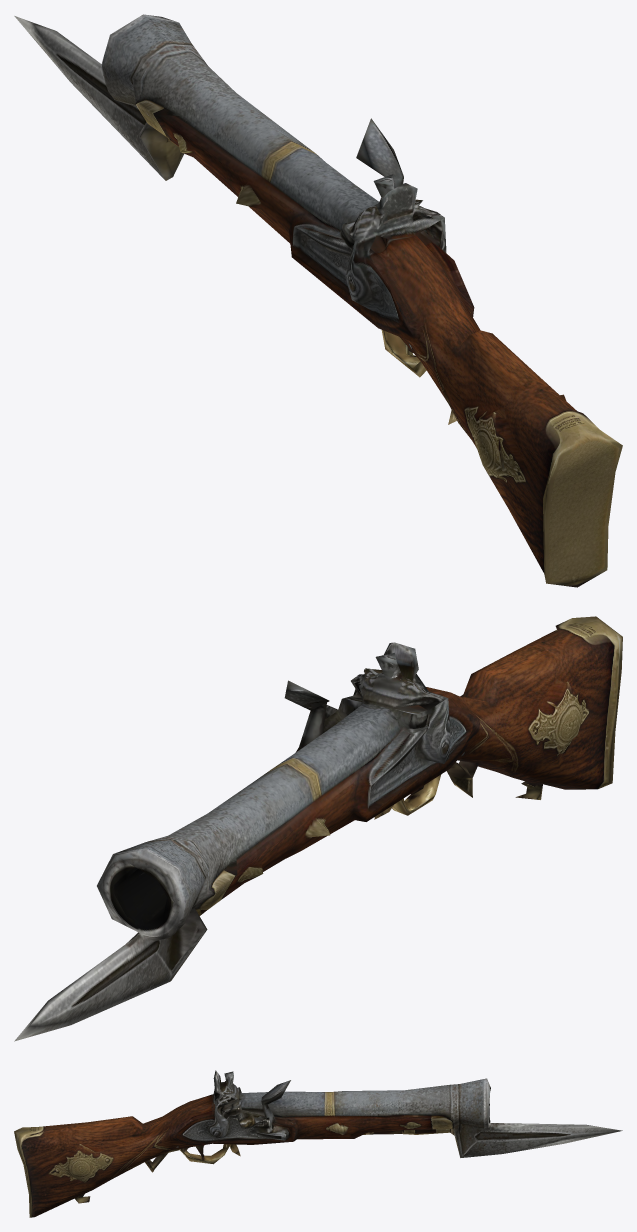
File: infantry_atk_musket.fbx
3 renders of one model, top to bottom at view 1: azimuth 30°, elevation 25°; view 2: azimuth 150°, elevation 25°; view 3: azimuth 270°, elevation 25°, orthographic. The views are drawn at different scales.
Visible parts, largest first — view 1: tripo_node_d7edd22b-1cde-44a5-bd5e-5764cfa827cd; view 2: tripo_node_d7edd22b-1cde-44a5-bd5e-5764cfa827cd; view 3: tripo_node_d7edd22b-1cde-44a5-bd5e-5764cfa827cd.
Boxes of the visible parts, x1,y1,x2,y2 form: tripo_node_d7edd22b-1cde-44a5-bd5e-5764cfa827cd: (14,14,622,587); tripo_node_d7edd22b-1cde-44a5-bd5e-5764cfa827cd: (14,616,622,1041); tripo_node_d7edd22b-1cde-44a5-bd5e-5764cfa827cd: (14,1070,622,1217).
Bounding box in the file's own units: 11.02 × 26.3 × 98.7.
Materials: 1 (1 with a texture image).
